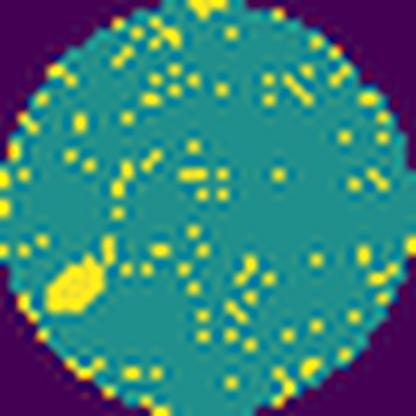Loc: (46, 233, 117, 313)
